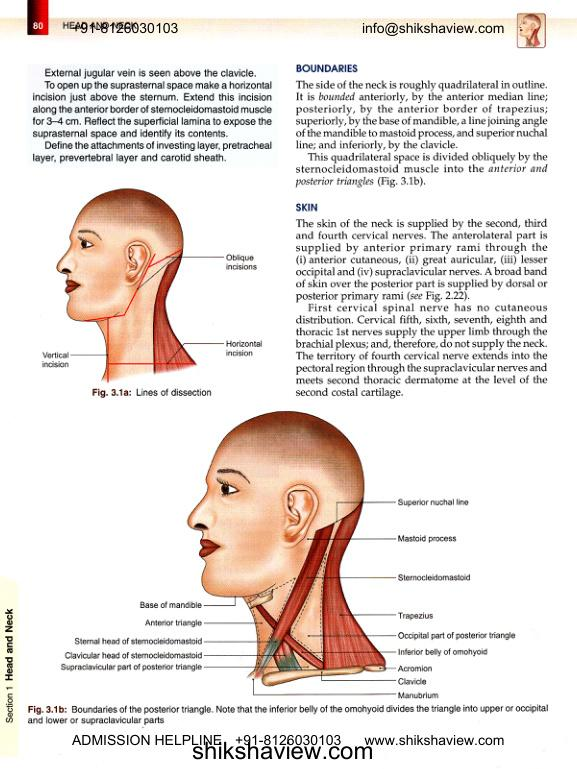caption: (26, 703, 550, 727), (91, 386, 213, 399)
image: (51, 403, 529, 702), (33, 181, 271, 384)
sub-section-heading: (295, 63, 359, 74), (295, 201, 319, 213)
text: (294, 217, 549, 401), (294, 78, 550, 189), (30, 66, 274, 166)
